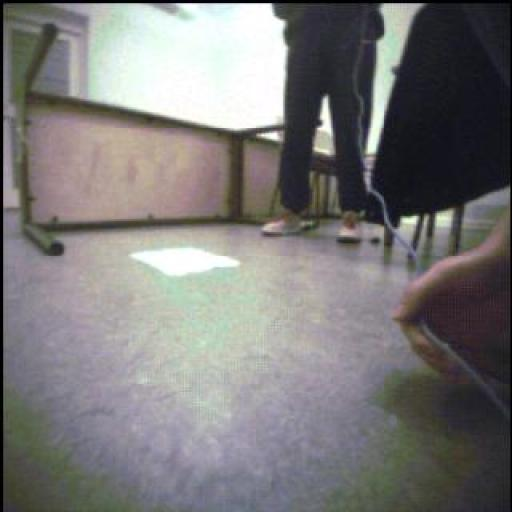Pad: (129, 239, 254, 290)
